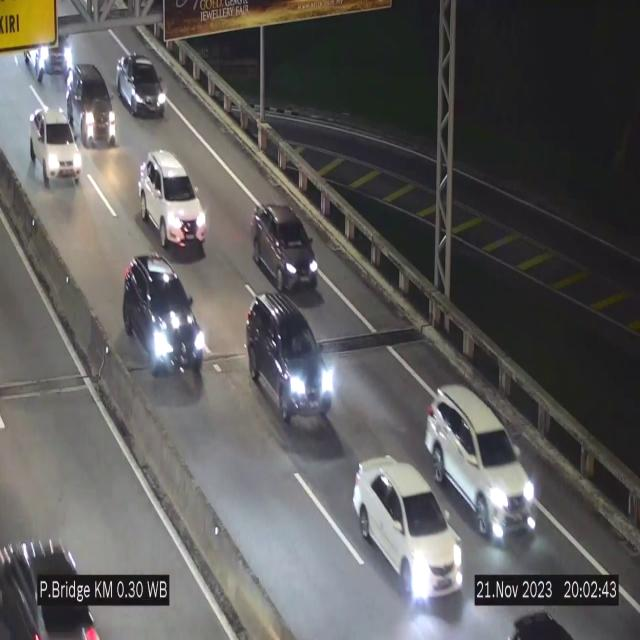Car: (424, 386, 536, 536), (353, 458, 463, 600), (240, 288, 332, 433), (0, 529, 104, 640), (123, 254, 206, 388), (139, 150, 207, 252), (252, 204, 318, 290), (26, 102, 82, 190), (64, 59, 116, 153), (23, 16, 79, 82), (116, 54, 166, 116)
